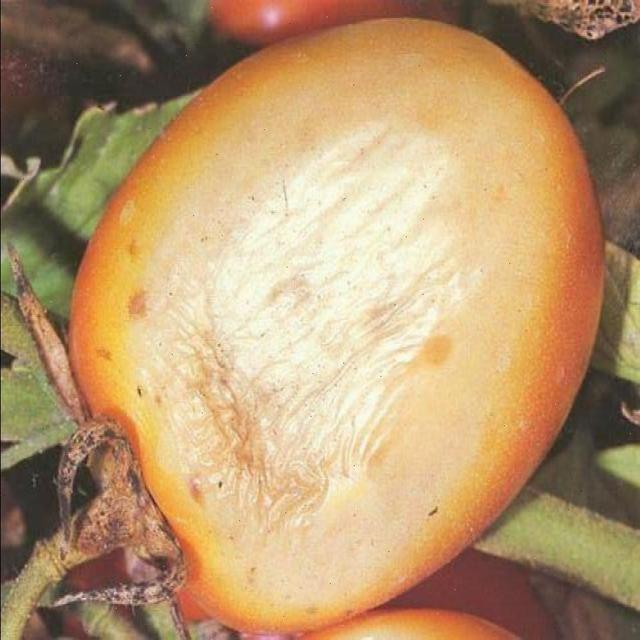Sunscald Fruit: (83, 77, 370, 340)
